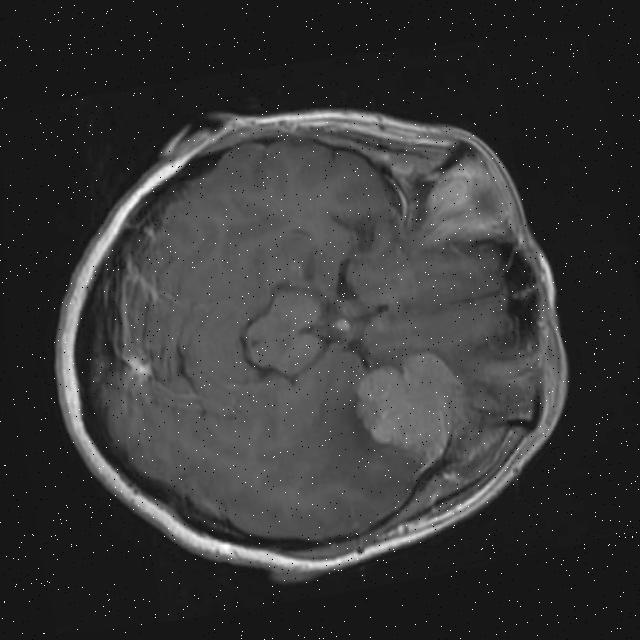Meningioma: (348, 347, 475, 480)
